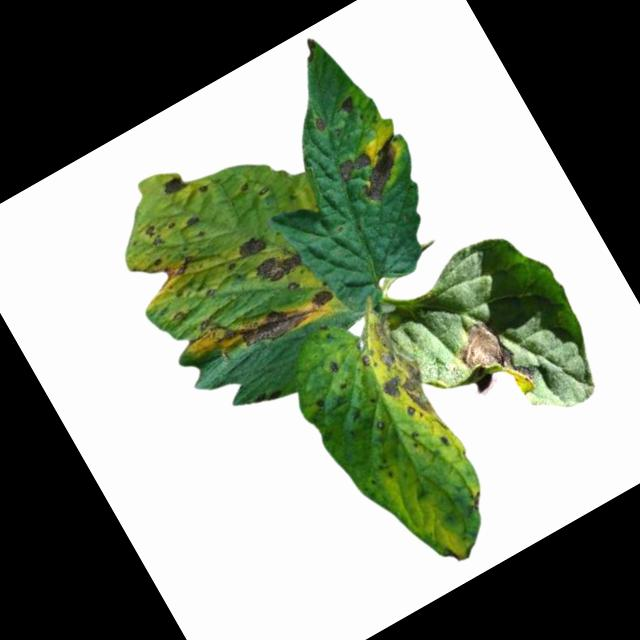Early_blight: (350, 307, 445, 430), (446, 307, 543, 414), (213, 285, 315, 366), (348, 135, 414, 203), (251, 242, 304, 289), (331, 145, 376, 185), (155, 251, 197, 285), (231, 229, 270, 265), (439, 535, 475, 566), (305, 283, 335, 312), (138, 220, 165, 250), (160, 171, 189, 197), (334, 92, 357, 116), (309, 111, 329, 133), (323, 353, 343, 374), (180, 211, 197, 228)
